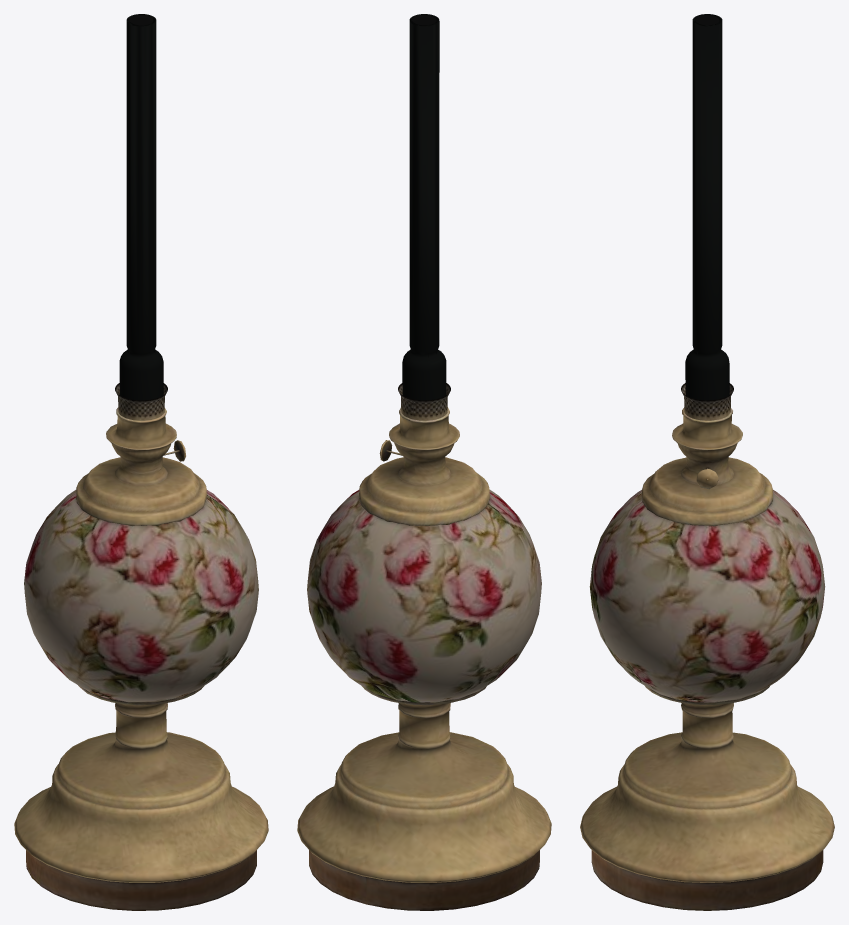
The model's file is vintage_oil_lamp.gltf.
3 renders of one model, left to right at view 1: azimuth 30°, elevation 25°; view 2: azimuth 150°, elevation 25°; view 3: azimuth 270°, elevation 25°, orthographic.
Parts seen in each view (by area): view 1: vintage_oil_lamp, vintage_oil_lamp_glass; view 2: vintage_oil_lamp, vintage_oil_lamp_glass; view 3: vintage_oil_lamp, vintage_oil_lamp_glass.
Part boxes in pixels (x1=…): vintage_oil_lamp: x1=14, y1=407, x2=268, y2=910; vintage_oil_lamp_glass: x1=115, y1=14, x2=167, y2=420; vintage_oil_lamp: x1=297, y1=407, x2=551, y2=910; vintage_oil_lamp_glass: x1=398, y1=14, x2=450, y2=420; vintage_oil_lamp: x1=580, y1=407, x2=834, y2=910; vintage_oil_lamp_glass: x1=681, y1=14, x2=733, y2=420.
Size of the model in its own units: 0.22 by 0.8016 by 0.22.
Materials: 3 (3 with a texture image).
